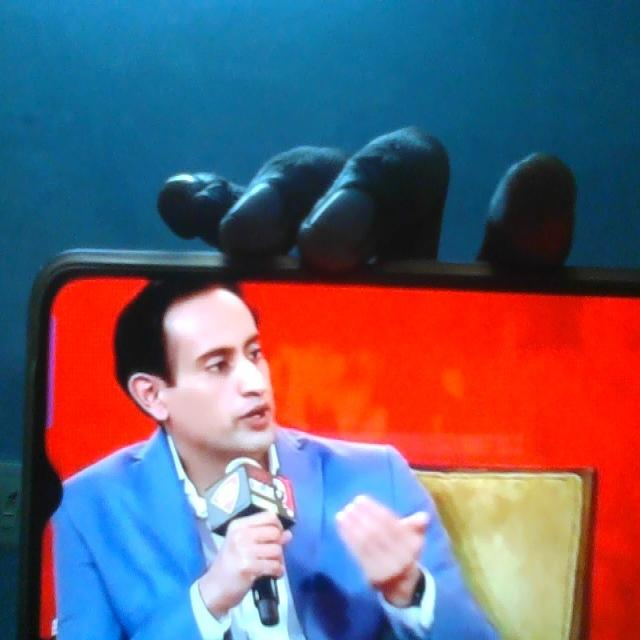fake: (159, 257, 268, 463)
